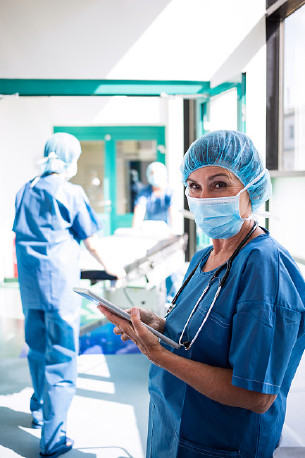face_mask: (186, 161, 242, 237)
